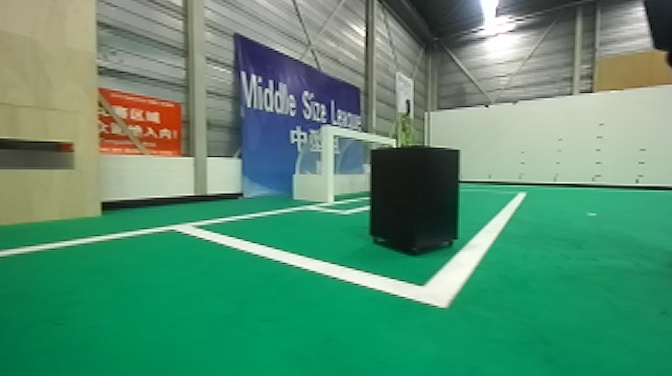goalpost: (318, 123, 336, 205)
